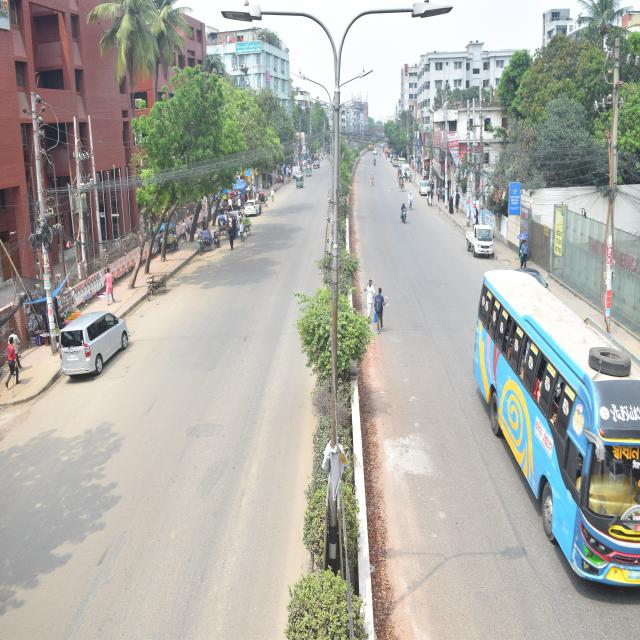bus: (455, 272, 640, 588)
car: (28, 305, 151, 387), (205, 201, 249, 244), (414, 172, 442, 218), (238, 186, 264, 218), (400, 156, 413, 178), (312, 147, 321, 175)
motorbike: (396, 196, 408, 234), (372, 153, 378, 176)
pickup-van: (462, 206, 500, 276)
